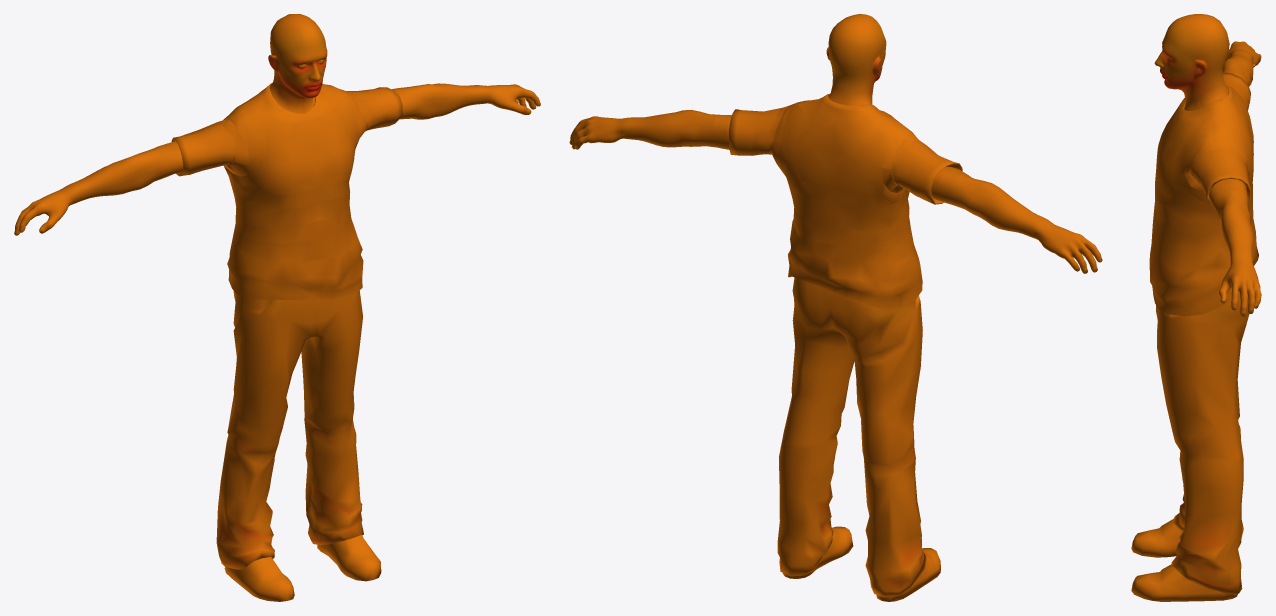
The model's file is ped_scale.fbx.
3 views of the same model, side by side, from view 1: azimuth 30°, elevation 25°; view 2: azimuth 150°, elevation 25°; view 3: azimuth 270°, elevation 25° (orthographic).
Parts seen in each view (by area): view 1: ped_scale; view 2: ped_scale; view 3: ped_scale.
Part boxes in pixels (x1,y1,x2,y2): ped_scale: (14,14,540,601); ped_scale: (569,14,1102,601); ped_scale: (1131,14,1261,601).
Size of the model in its own units: 180 by 182 by 38.63.
